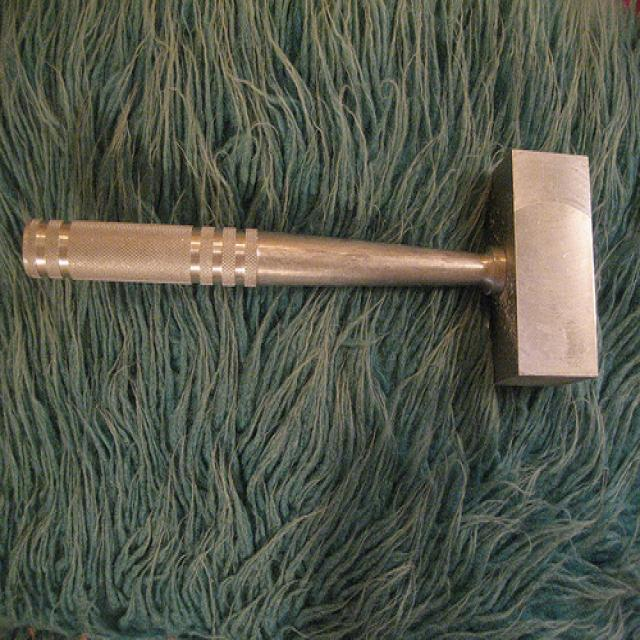hammer: (18, 131, 613, 393)
